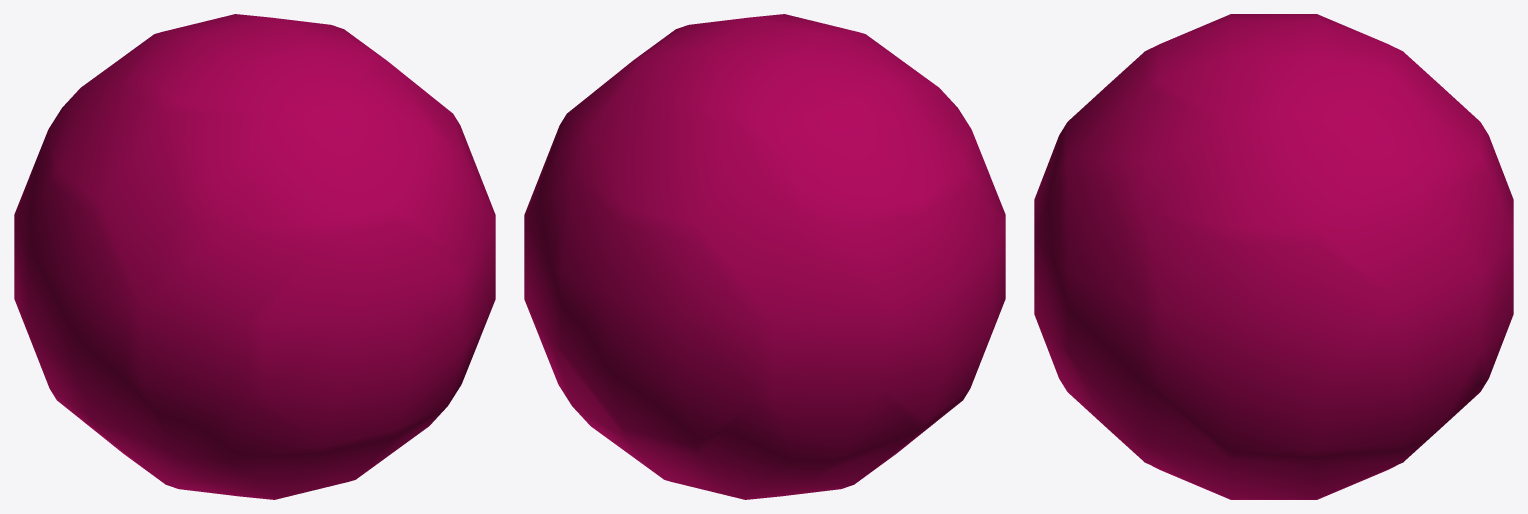
Rendered from ball1.fbx.
3 renders of one model, left to right at view 1: azimuth 30°, elevation 25°; view 2: azimuth 150°, elevation 25°; view 3: azimuth 270°, elevation 25°, orthographic.
Parts seen in each view (by area): view 1: Mball; view 2: Mball; view 3: Mball.
Part boxes in pixels (x1,y1,x2,y2): Mball: (14, 14, 495, 499); Mball: (524, 14, 1005, 499); Mball: (1034, 14, 1513, 499).
Bounding box in the file's own units: 223 × 223 × 223.
